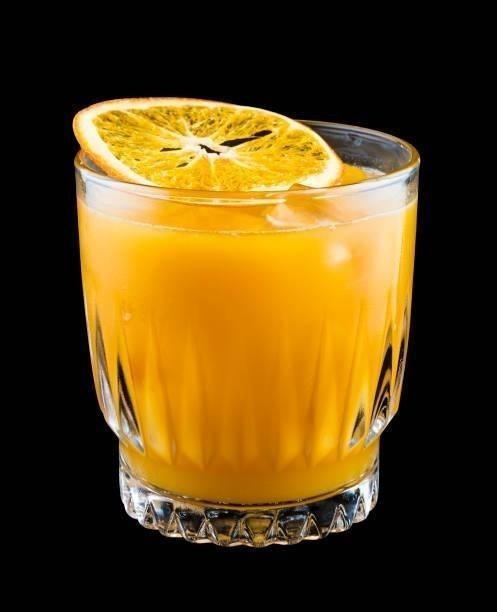glass-normal: (71, 98, 424, 551)
